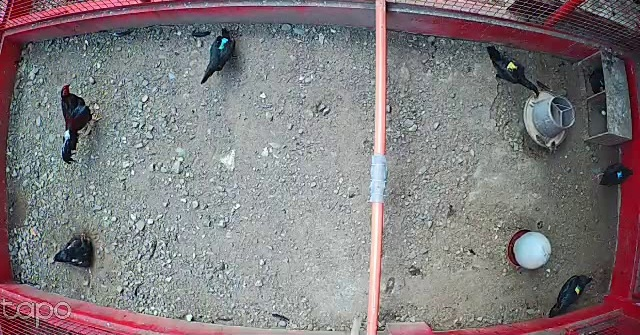Chicken: (487, 43, 542, 96), (199, 22, 243, 86), (544, 273, 598, 322), (45, 230, 102, 275), (589, 163, 636, 190)
Rooster: (56, 78, 101, 165)
Saddle_Color_Blue: (616, 172, 624, 180)
Saddle_Color_Bluegreen: (219, 38, 228, 51)
Saddle_Color_Yellow: (508, 61, 519, 72)
Saddle_Color_YellowGreen: (574, 286, 582, 294)
